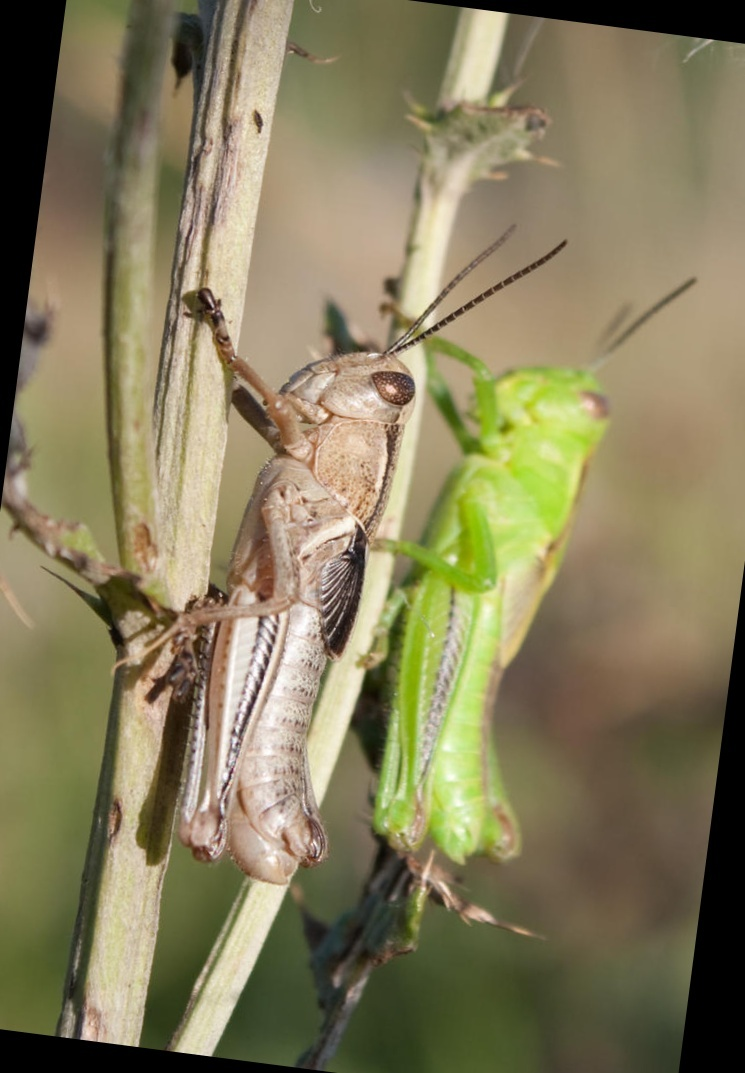Brown_hopper: (132, 285, 413, 915)
